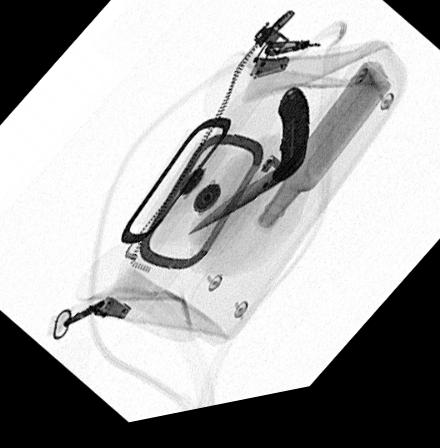Knife: (181, 95, 311, 244)
